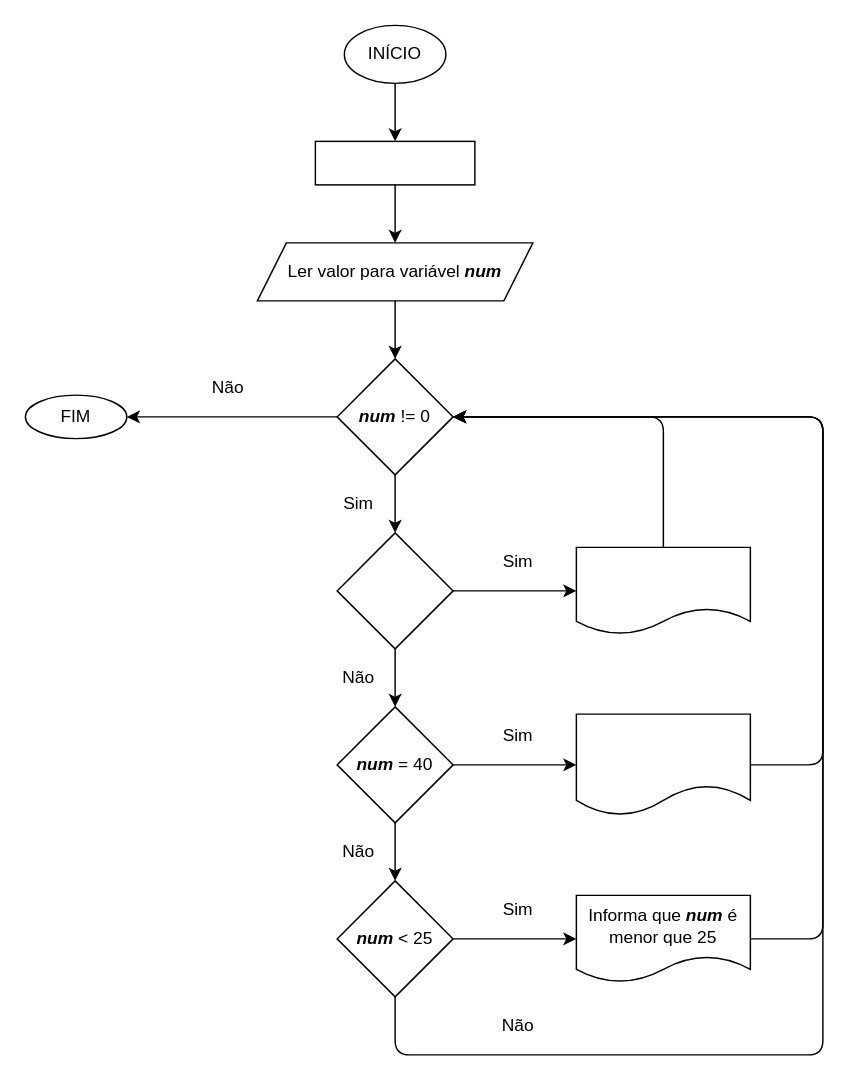
This 860x1092 diagram has some shape labels left out. Each missing label, with the centre of its shape:
Informa que num é igual a 40: pixel 662 764
Informa que num é maior que 80: pixel 662 590
inteiro num: pixel 394 162
num > 80: pixel 394 590
